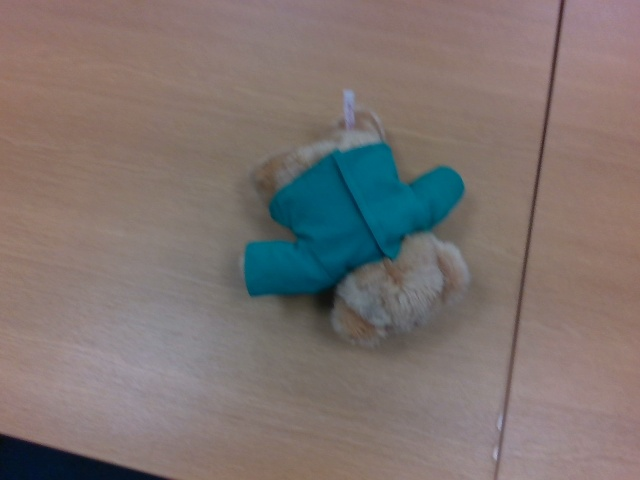teddy: (238, 109, 473, 350)
